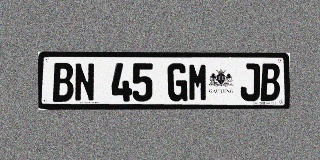4: (111, 63, 132, 102)
5: (132, 63, 153, 101)
B: (52, 63, 74, 102), (260, 63, 280, 101)
G: (167, 63, 187, 101)
J: (240, 63, 260, 101)
M: (188, 63, 208, 101)
N: (74, 63, 95, 102)
